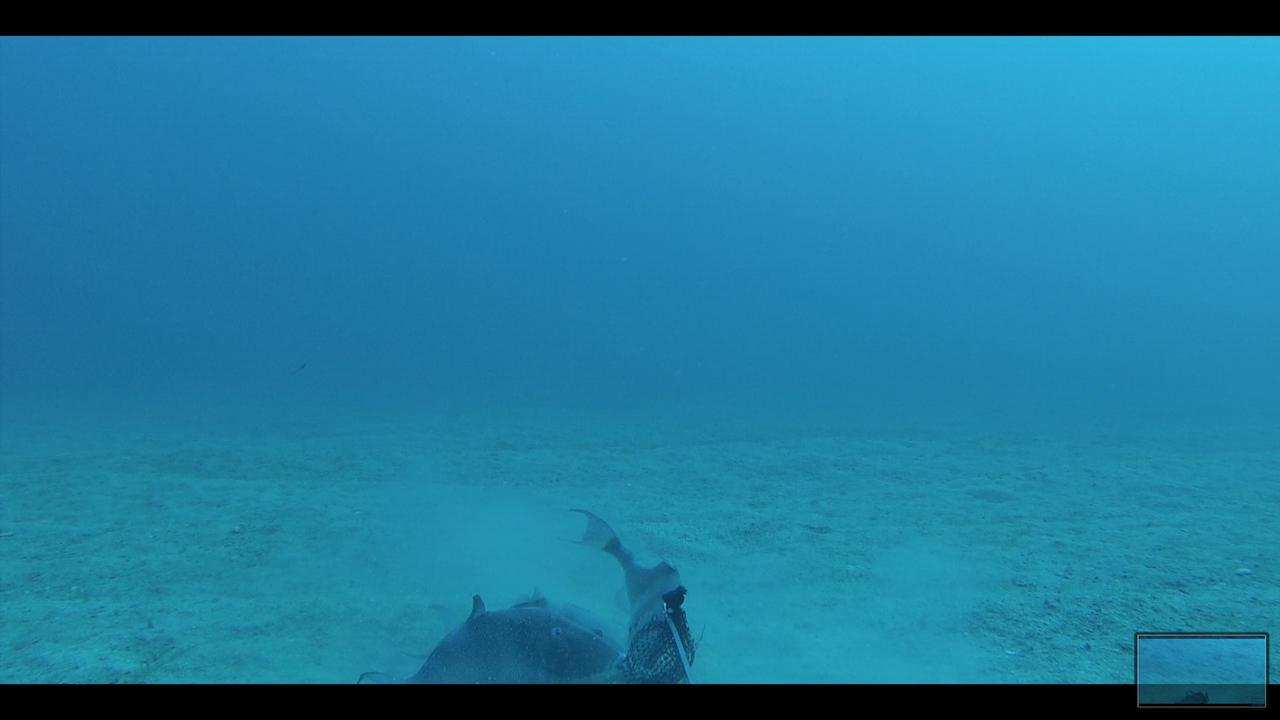balistes: (353, 592, 628, 682), (564, 499, 685, 649)
